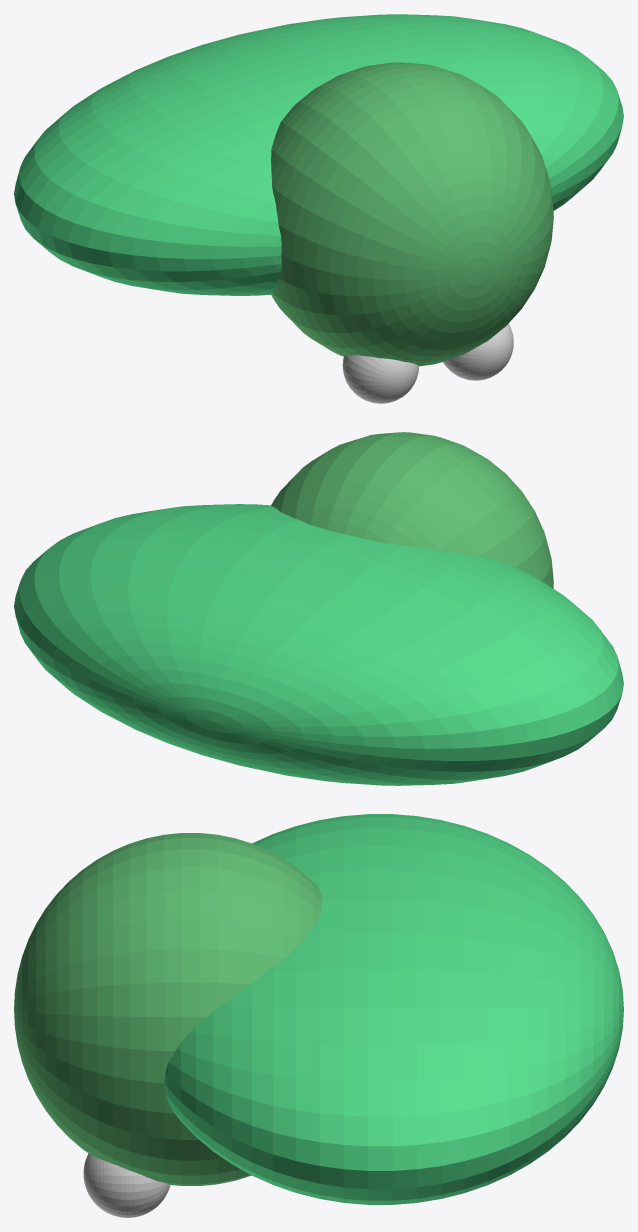
Rendered from powerup_pepe_cloak.glb.
The picture shows the model from 3 angles, top to bottom: view 1: azimuth 30°, elevation 25°; view 2: azimuth 150°, elevation 25°; view 3: azimuth 270°, elevation 25°; orthographic projection. The views are drawn at different scales.
Visible parts, largest first — view 1: cloak, pepe_head, eye_l, eye_r; view 2: cloak, pepe_head; view 3: cloak, pepe_head, eye_r.
Boxes of the visible parts, x1,y1,x2,y2 form: cloak: [14, 14, 623, 295]; pepe_head: [271, 62, 553, 366]; eye_l: [342, 355, 418, 403]; eye_r: [443, 324, 513, 380]; cloak: [14, 504, 623, 785]; pepe_head: [271, 432, 553, 588]; cloak: [164, 814, 623, 1204]; pepe_head: [14, 833, 322, 1185]; eye_r: [83, 1153, 170, 1217].
Size of the model in its own units: 1.21 by 0.5896 by 0.965.
